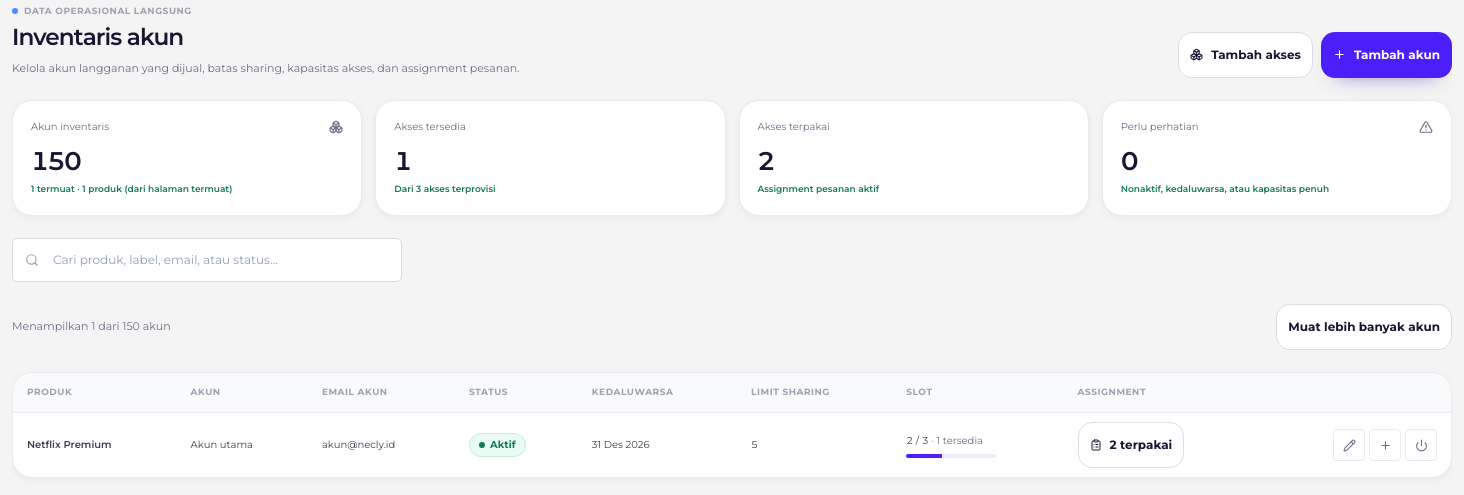
Test: Halaman Inventaris akun › mencari akun yang baru ada di halaman berikutnya dengan memuat sisa halaman
Expected: the text "Akun utama" is shown, [177,413,308,477]
Expected: the text "Akun cadangan" is not shown
Type "cadangan" into the field named "Cari inventaris" at coordinates (207, 260), box [12,238,402,282]
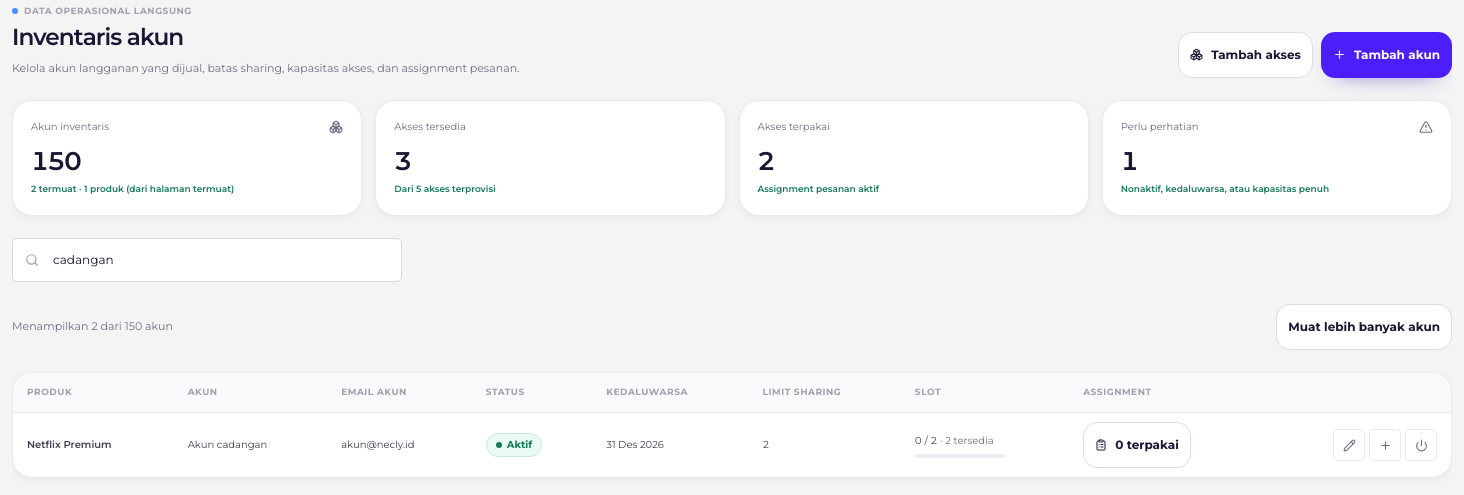
Expected: the text "Akun cadangan" is shown, [174,413,327,477]
